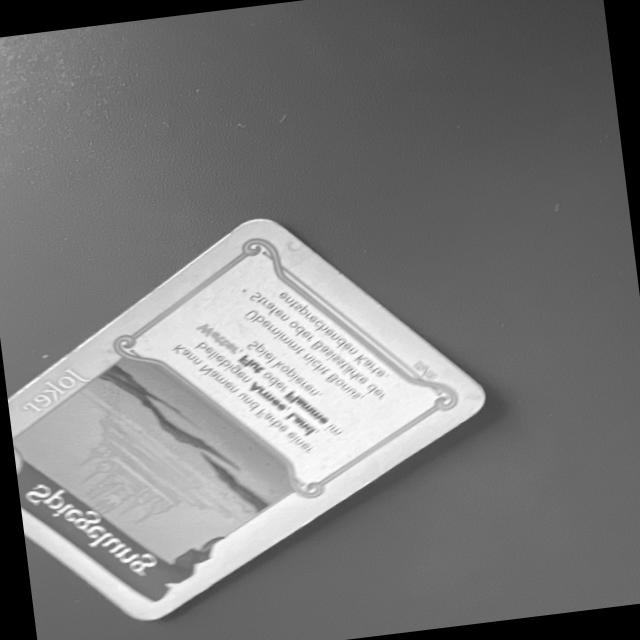Mirage: (9, 213, 493, 626)
